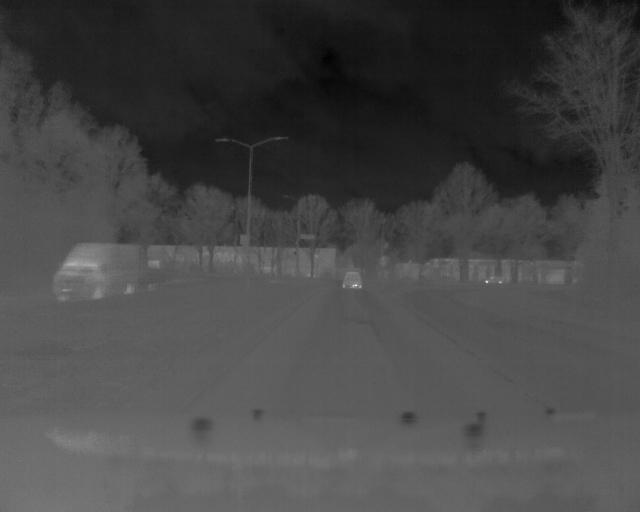car: (50, 238, 141, 302), (341, 270, 364, 291)
